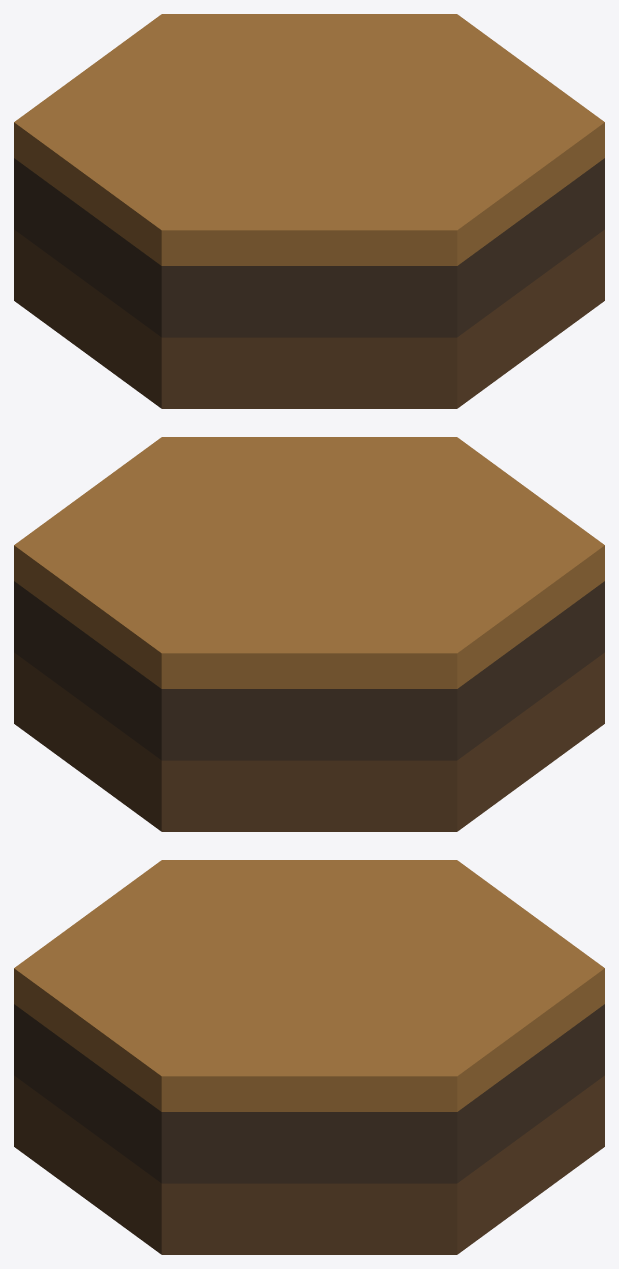
File: terrains-hexagon-brown.glb
The picture shows the model from 3 angles, top to bottom: view 1: azimuth 30°, elevation 25°; view 2: azimuth 150°, elevation 25°; view 3: azimuth 270°, elevation 25°; orthographic projection.
Visible parts, largest first — view 1: hexagon_brown; view 2: hexagon_brown; view 3: hexagon_brown.
Part boxes in pixels (<box>): hexagon_brown: <box>14,14,604,408</box>; hexagon_brown: <box>14,437,604,831</box>; hexagon_brown: <box>14,860,604,1254</box>.
Bounding box in the file's own units: 25.98 × 10 × 30.
